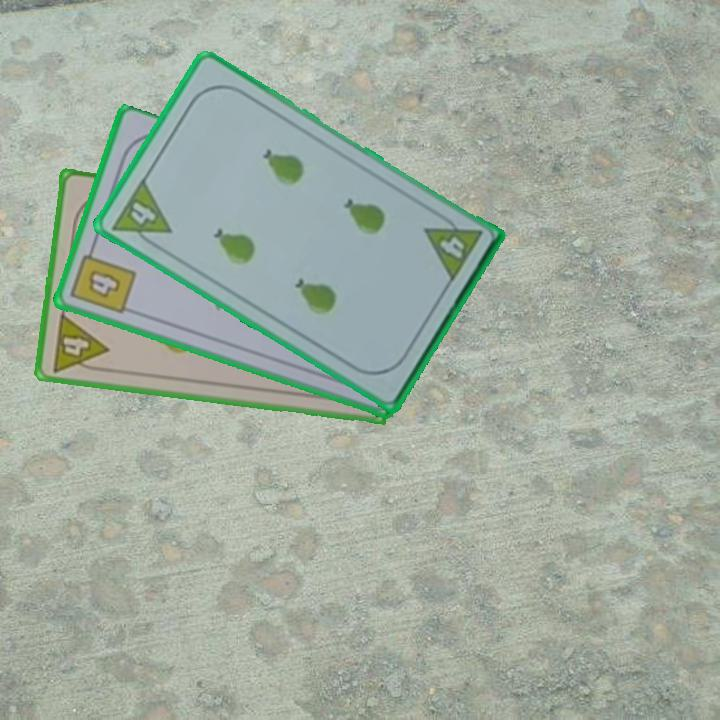4b: (67, 242, 139, 318)
4p: (108, 174, 174, 254), (420, 208, 485, 285), (48, 309, 111, 376)
